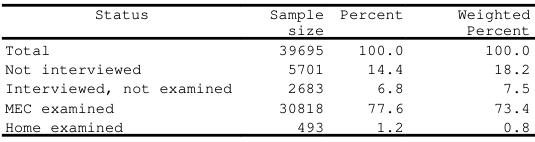table: (3, 3, 529, 135)
table column: (3, 3, 249, 135), (429, 3, 529, 135), (331, 3, 429, 135), (249, 3, 331, 135)
table column header: (3, 3, 529, 39)
table row: (3, 3, 529, 39), (3, 77, 529, 97), (3, 39, 529, 58), (3, 58, 529, 77), (3, 97, 529, 116), (3, 116, 529, 135)
